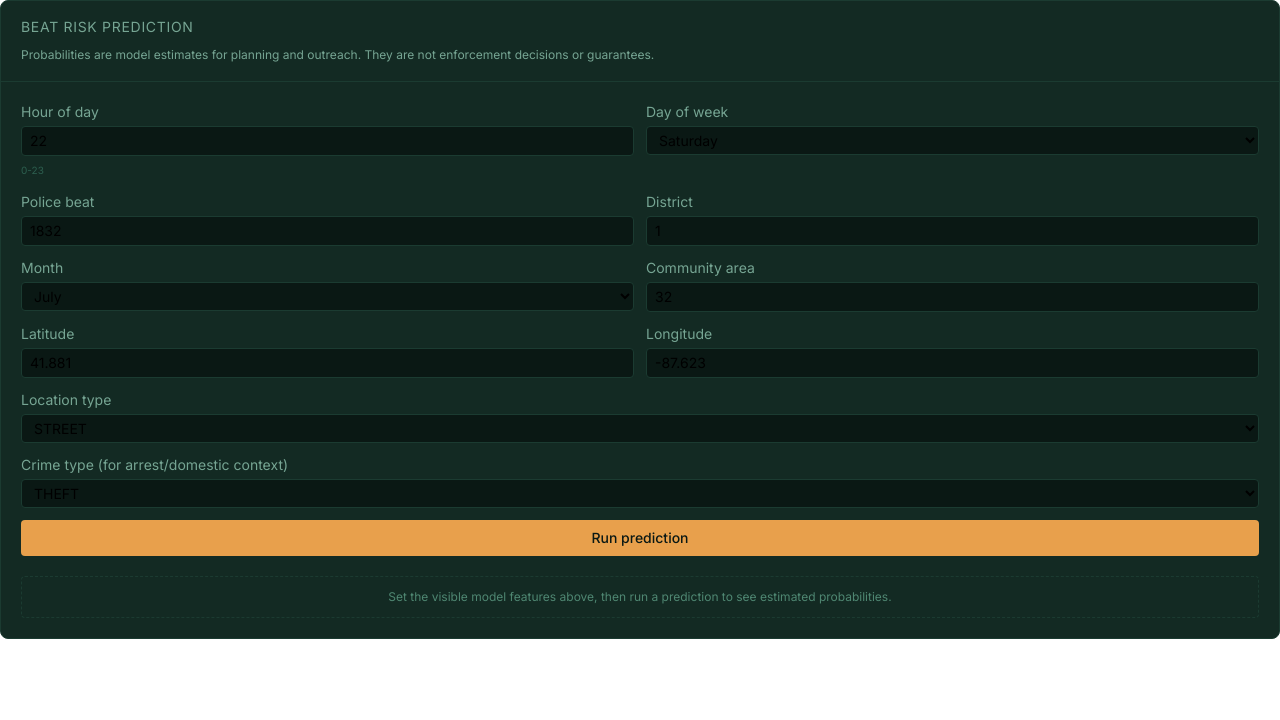
Scenario: PredictionPanel › shows a friendly error when prediction fails
Click the button "Run prediction" at (640, 538), box [21,520,1259,556]
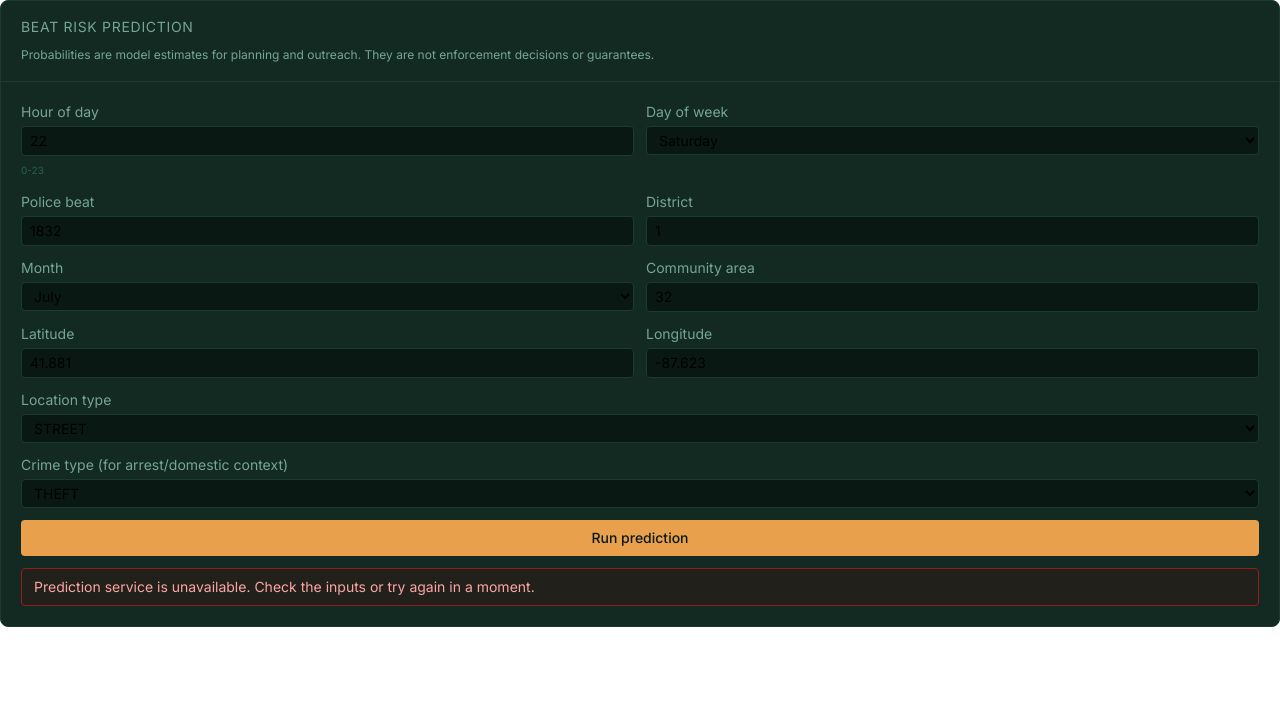
Check: the message shows "Prediction service is unavailable", box [34,578,535,594]
